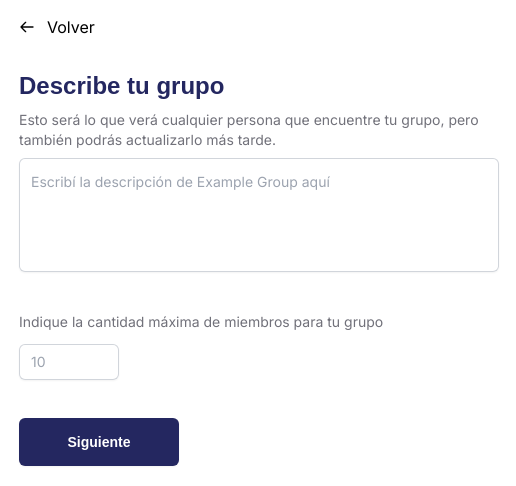
Test: Create Group FormStep3 › input size › displays validation message for incorrect input max size
Click the button "Siguiente". click: [99, 442]
box: [19,418,179,466]
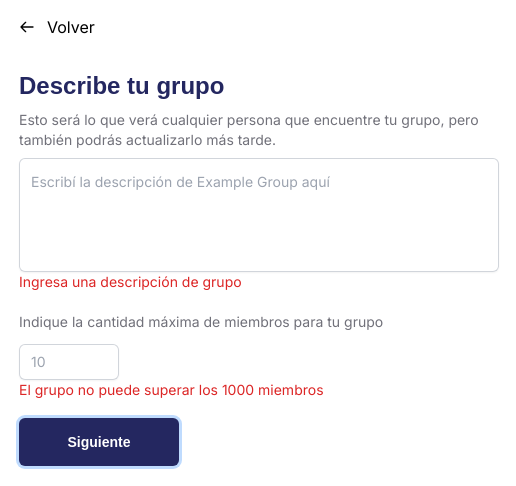
Expected: the text "El grupo no puede superar los 1000 miembros" is shown, [19,381,324,398]
